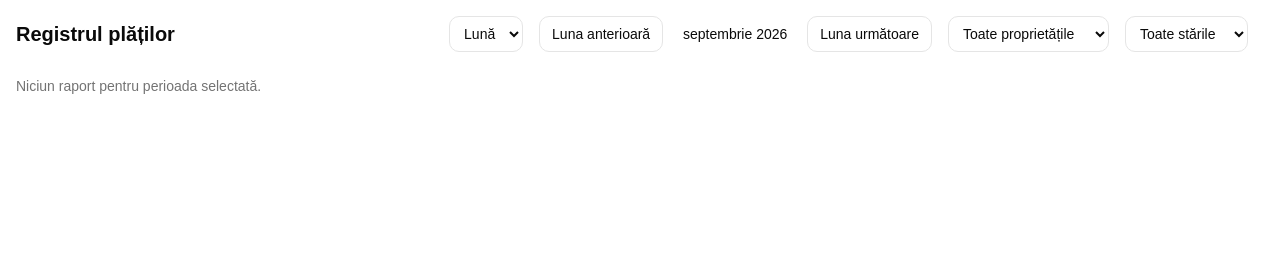
Test: PaymentsLedgerPage › year mode footer totals (FR-PROP-12) › billed, collected and rent total appear once year mode is selected
Select "An" in the dropdown named "Tip perioadă" at point(486, 34), box [449,16,523,52]
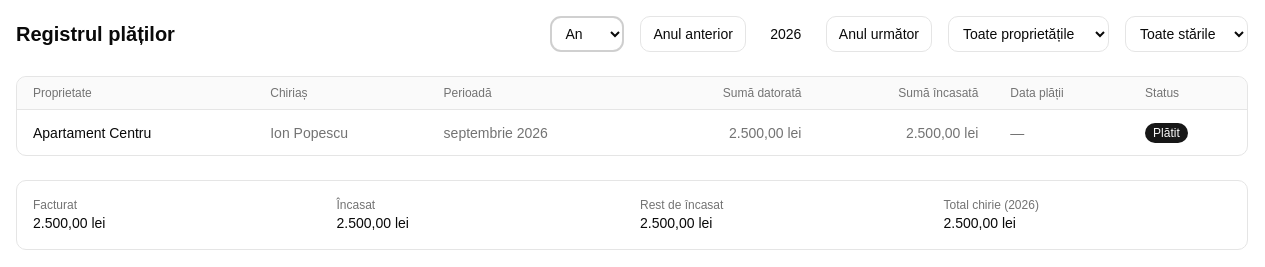
Expected: the text "Facturat" is shown, [33,198,77,212]
Expected: the text "Încasat" is shown, [336,198,375,212]
Expected: the text "Rest de încasat" is shown, [640,198,723,212]
